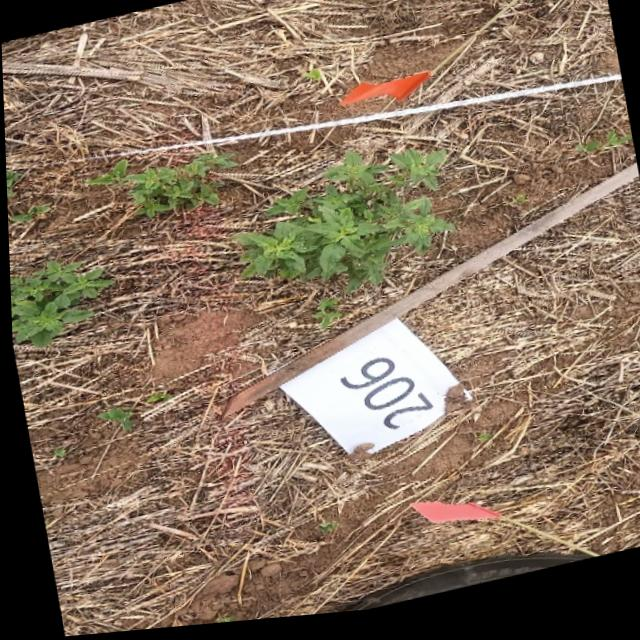caruru_weed: (236, 156, 452, 297), (85, 156, 233, 219), (8, 261, 110, 347), (9, 205, 47, 222), (5, 170, 17, 196)
soy_plant: (574, 142, 631, 163), (309, 302, 340, 334), (95, 408, 131, 431), (95, 408, 129, 432), (472, 439, 489, 458), (301, 73, 321, 86), (143, 395, 167, 405), (210, 619, 234, 627), (51, 448, 63, 457)
